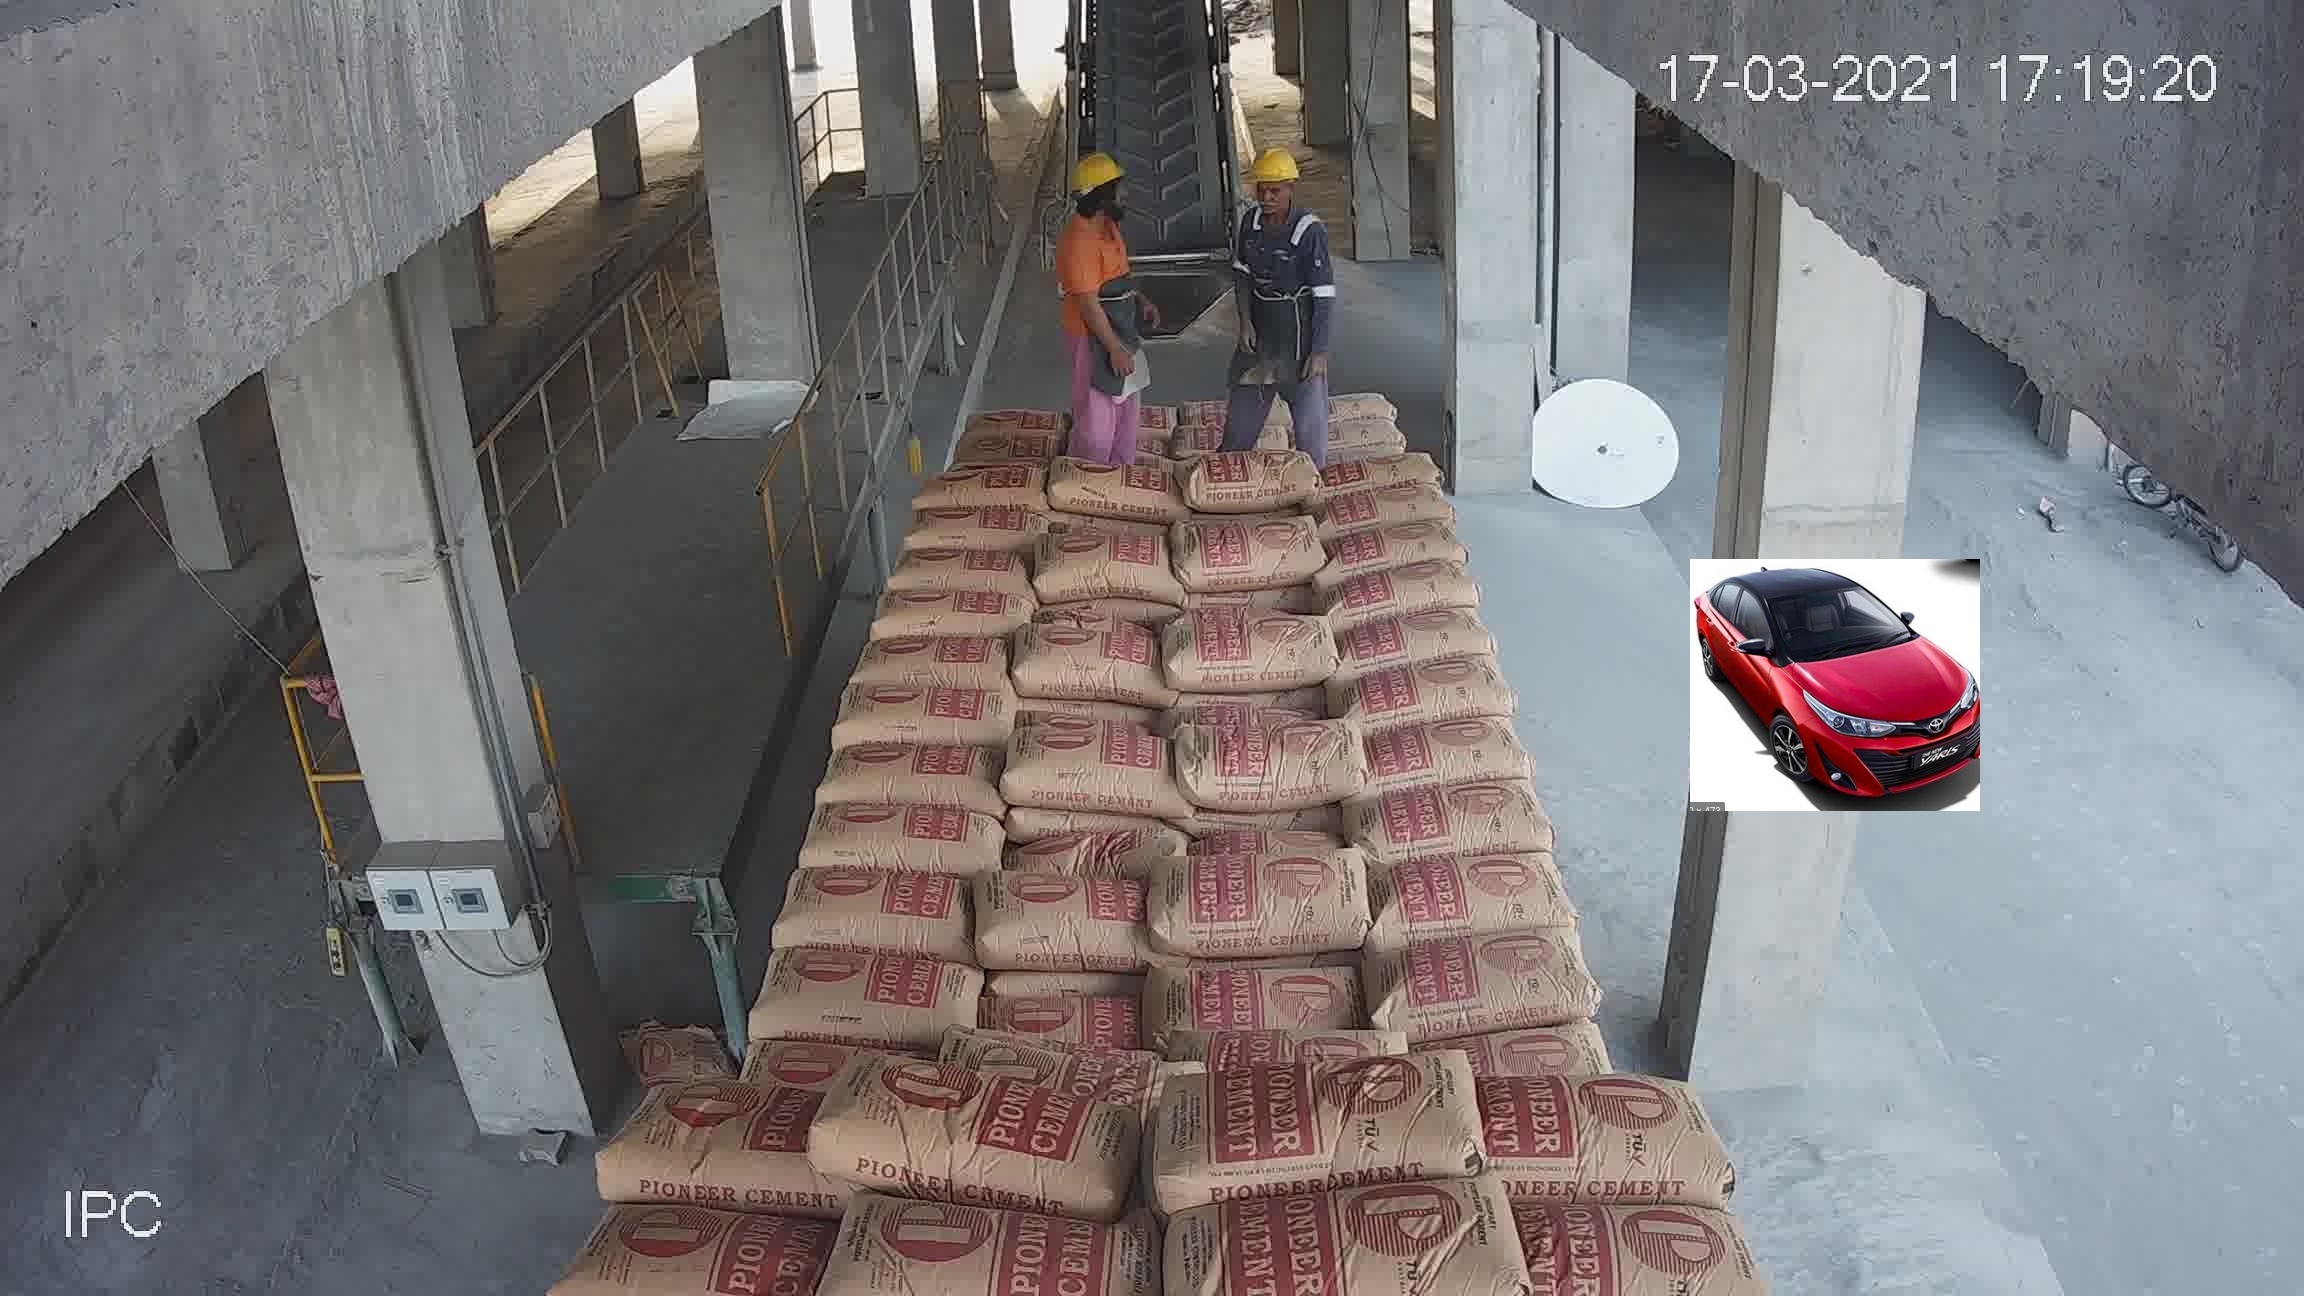bag_h: (798, 1051, 1157, 1212), (1147, 1033, 1473, 1204), (1445, 1070, 1730, 1211), (1160, 1176, 1529, 1280), (582, 1082, 843, 1206), (734, 930, 1010, 1044), (1340, 761, 1568, 885), (1343, 932, 1598, 1035), (815, 1211, 1157, 1287), (771, 839, 984, 959), (1521, 1185, 1774, 1283), (1358, 836, 1581, 942), (1154, 842, 1377, 945), (524, 1215, 828, 1287), (801, 726, 1000, 824), (794, 790, 1032, 870), (1176, 709, 1380, 802), (1002, 712, 1171, 820), (1136, 954, 1367, 1032), (1364, 709, 1546, 805), (961, 870, 1139, 965), (1169, 1013, 1427, 1074), (1347, 652, 1522, 741), (815, 671, 1022, 745), (1340, 590, 1499, 680), (946, 1025, 1215, 1074), (1324, 552, 1495, 627), (994, 965, 1154, 1044), (1173, 508, 1326, 590), (1160, 619, 1340, 688), (1017, 627, 1173, 707), (1449, 1006, 1620, 1079), (1021, 521, 1166, 604), (1182, 440, 1331, 514), (907, 487, 1044, 567), (1044, 453, 1180, 530), (1033, 813, 1188, 881), (853, 623, 1010, 688), (886, 538, 1041, 600), (873, 581, 1033, 638), (1321, 524, 1472, 578), (900, 459, 1040, 514), (1328, 483, 1456, 529), (1324, 445, 1446, 489), (959, 429, 1052, 472), (945, 402, 1079, 430), (1328, 415, 1407, 457), (1329, 381, 1397, 426)
belt: (1060, 13, 1241, 315)
